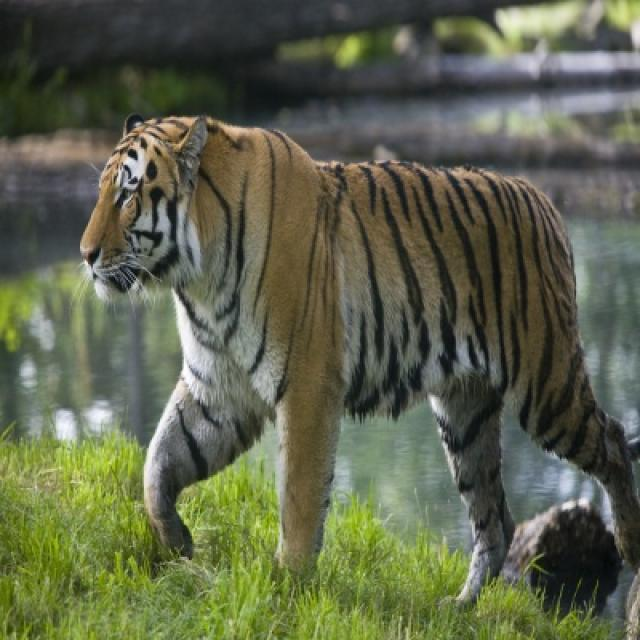Tiger: (79, 121, 638, 610)
